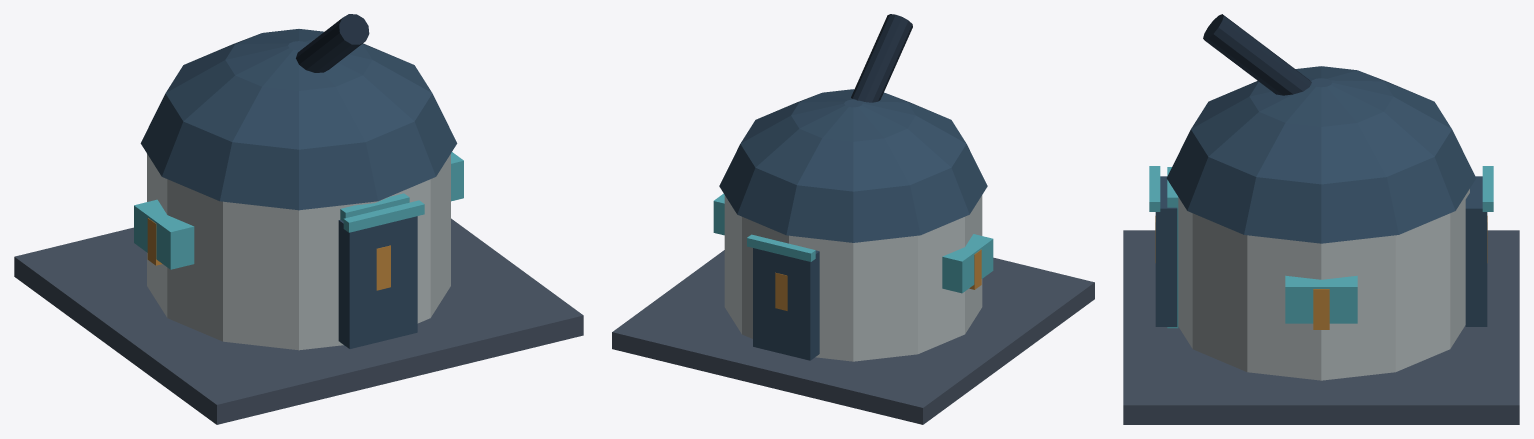
Rendered from SpaceStation_Observatory_Standard.glb.
3 views of the same model, side by side, from view 1: azimuth 30°, elevation 25°; view 2: azimuth 150°, elevation 25°; view 3: azimuth 270°, elevation 25° (orthographic). The views are drawn at different scales.
Visible parts, largest first — view 1: SpaceStation_Observatory_Standard; view 2: SpaceStation_Observatory_Standard; view 3: SpaceStation_Observatory_Standard.
Boxes of the visible parts, box(x1,y1,x2,y2) form: SpaceStation_Observatory_Standard: box(14, 14, 583, 424); SpaceStation_Observatory_Standard: box(612, 14, 1094, 424); SpaceStation_Observatory_Standard: box(1123, 14, 1519, 424).
Size of the model in its own units: 4.6 by 3.94 by 4.4.
